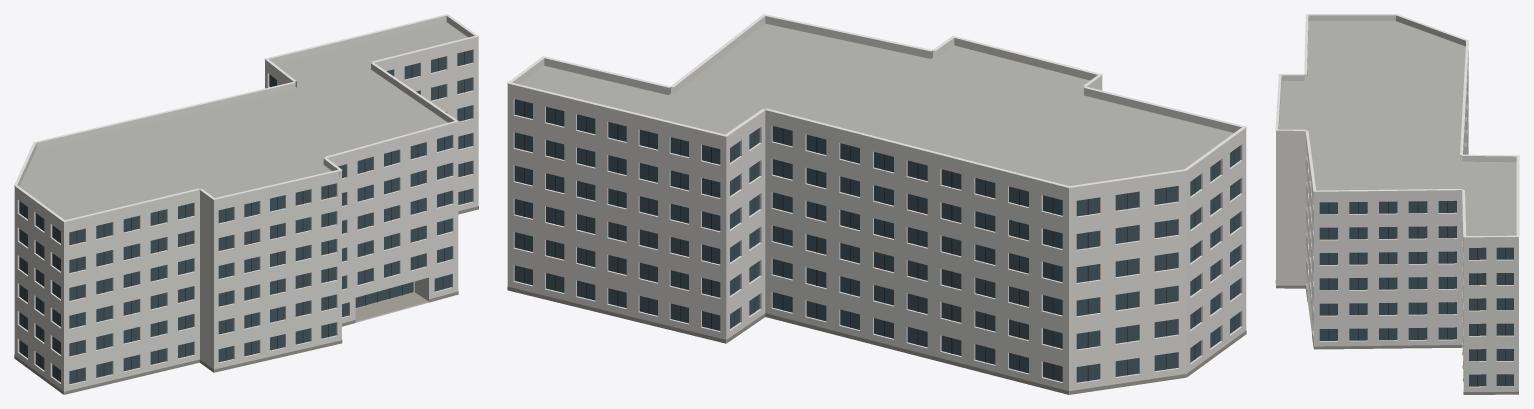
The picture shows the model from 3 angles, left to right: view 1: azimuth 30°, elevation 25°; view 2: azimuth 150°, elevation 25°; view 3: azimuth 270°, elevation 25°; orthographic projection. The views are drawn at different scales.
Parts seen in each view (by area): view 1: humanEcology__wall, humanEcology__roof, humanEcology__glass, humanEcology__parapet, humanEcology__trim, humanEcology__base, humanEcology__frame; view 2: humanEcology__wall, humanEcology__roof, humanEcology__glass, humanEcology__parapet, humanEcology__trim, humanEcology__base, humanEcology__frame; view 3: humanEcology__roof, humanEcology__wall, humanEcology__glass, humanEcology__parapet, humanEcology__trim, humanEcology__base, humanEcology__frame.
Part boxes in pixels (x1=…): humanEcology__wall: x1=14, y1=42, x2=478, y2=394; humanEcology__roof: x1=19, y1=22, x2=467, y2=322; humanEcology__glass: x1=19, y1=49, x2=472, y2=384; humanEcology__parapet: x1=14, y1=15, x2=478, y2=227; humanEcology__trim: x1=14, y1=14, x2=478, y2=222; humanEcology__base: x1=14, y1=206, x2=478, y2=394; humanEcology__frame: x1=24, y1=51, x2=464, y2=382; humanEcology__wall: x1=507, y1=82, x2=1246, y2=394; humanEcology__roof: x1=520, y1=23, x2=1233, y2=186; humanEcology__glass: x1=514, y1=99, x2=1240, y2=382; humanEcology__parapet: x1=507, y1=16, x2=1246, y2=195; humanEcology__trim: x1=507, y1=14, x2=1246, y2=188; humanEcology__base: x1=507, y1=286, x2=1246, y2=394; humanEcology__frame: x1=524, y1=101, x2=1234, y2=381; humanEcology__roof: x1=1278, y1=21, x2=1516, y2=394; humanEcology__wall: x1=1276, y1=51, x2=1518, y2=394; humanEcology__glass: x1=1319, y1=200, x2=1513, y2=386; humanEcology__parapet: x1=1276, y1=15, x2=1518, y2=242; humanEcology__trim: x1=1275, y1=14, x2=1519, y2=237; humanEcology__base: x1=1275, y1=280, x2=1518, y2=394; humanEcology__frame: x1=1328, y1=201, x2=1505, y2=386.
Size of the model in its own units: 66.15 by 21.82 by 30.59.
